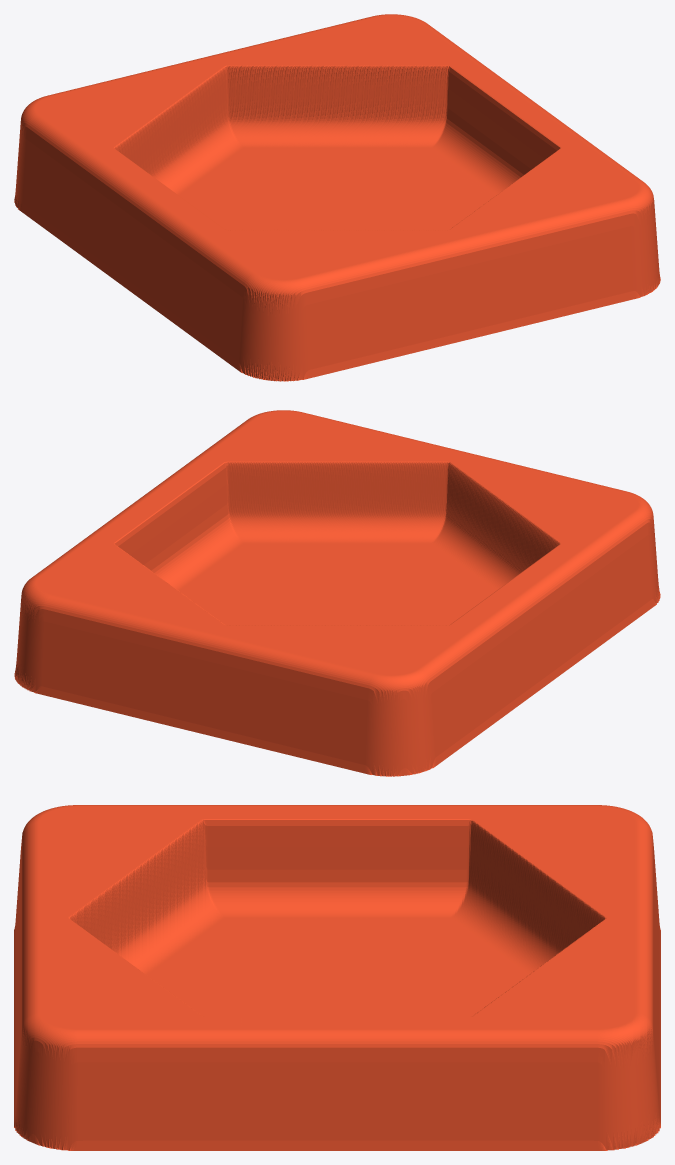
Rendered from mold.glb.
3 views of the same model, one above another, from view 1: azimuth 30°, elevation 25°; view 2: azimuth 150°, elevation 25°; view 3: azimuth 270°, elevation 25° (orthographic). The views are drawn at different scales.
Visible parts, largest first — view 1: geometry_0; view 2: geometry_0; view 3: geometry_0.
Part boxes in pixels (bbox=[...]): geometry_0: bbox=[14, 14, 660, 381]; geometry_0: bbox=[14, 410, 660, 776]; geometry_0: bbox=[14, 805, 660, 1150].
Size of the model in its own units: 0.0824 by 0.0175 by 0.0924.
